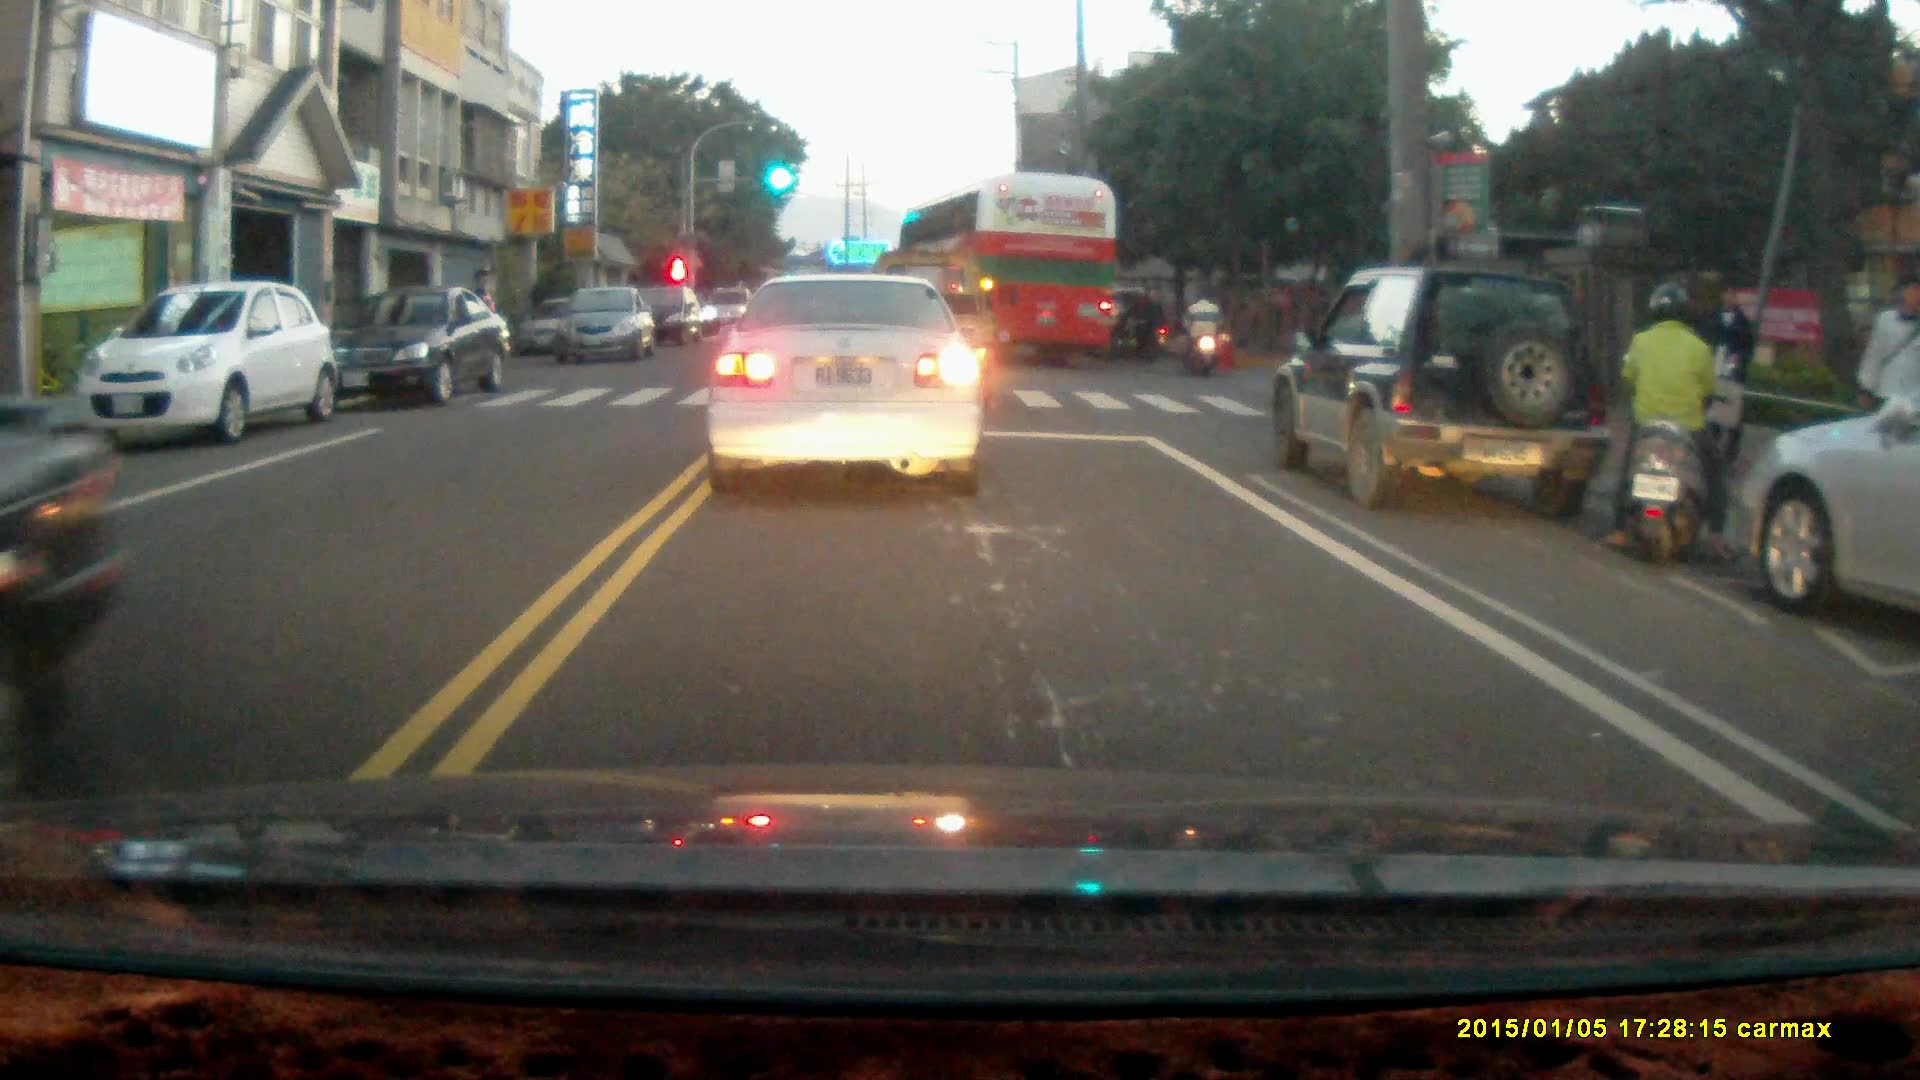pedestrian: (1699, 277, 1759, 478), (1858, 273, 1920, 465)
rider: (1601, 287, 1740, 564), (1103, 290, 1171, 366), (1181, 287, 1226, 378)
vehicle: (1270, 270, 1620, 521), (700, 271, 988, 498), (1726, 380, 1920, 629), (890, 171, 1123, 376), (77, 282, 335, 444), (1, 368, 117, 716), (325, 287, 514, 409), (552, 286, 651, 370), (624, 286, 712, 353)
